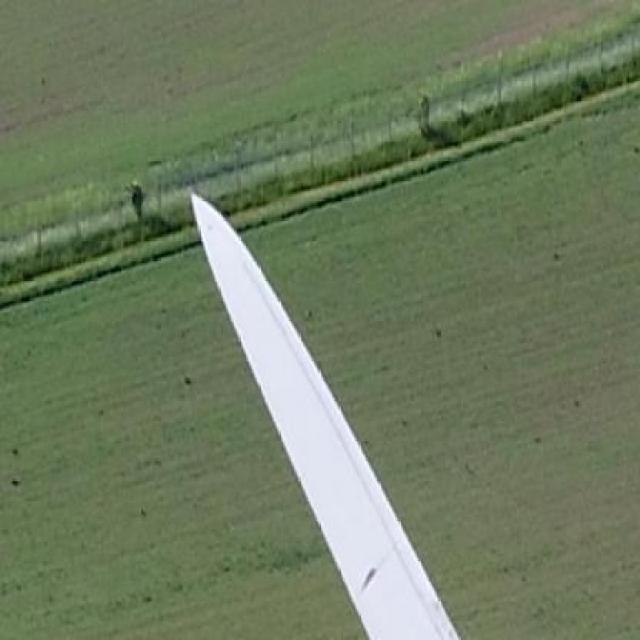Burn Mark: (360, 565, 375, 590)
